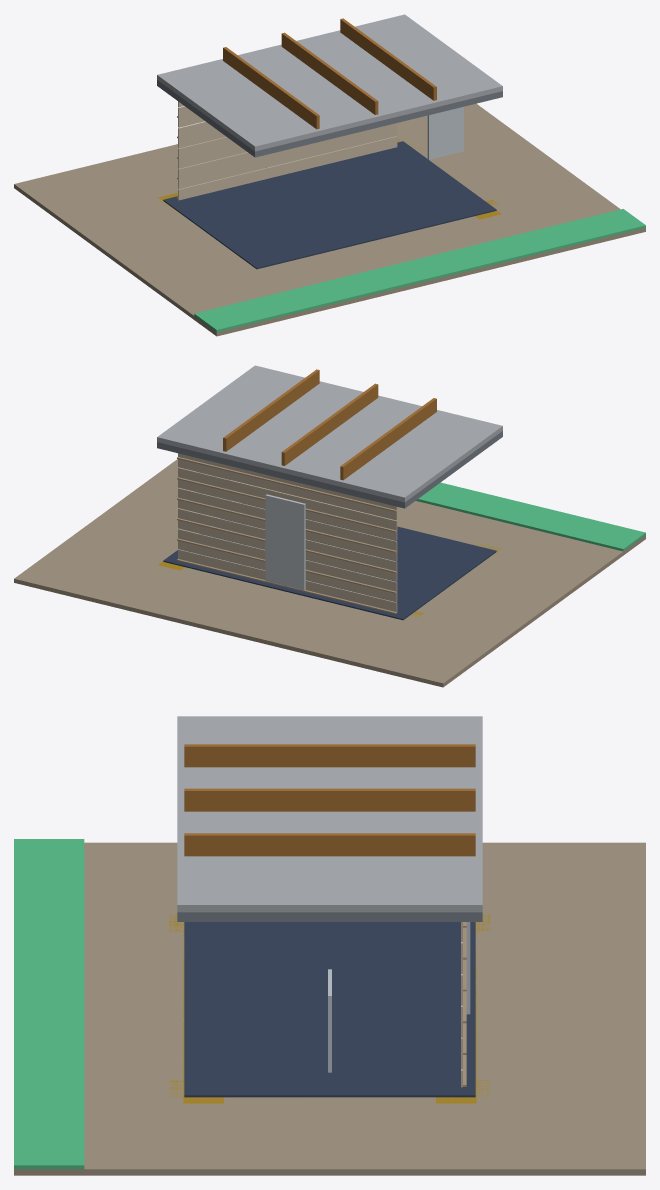
File: stage_11_finishing.glb
3 views of the same model, one above another, from view 1: azimuth 30°, elevation 25°; view 2: azimuth 150°, elevation 25°; view 3: azimuth 270°, elevation 25° (orthographic). The views are drawn at different scales.
Visible parts, largest first — view 1: world; view 2: world; view 3: world.
Boxes of the visible parts, x1,y1,x2,y2 form: world: (14, 14, 645, 336); world: (14, 365, 645, 687); world: (14, 716, 645, 1175).
Size of the model in its own units: 11 by 4.2 by 9.
